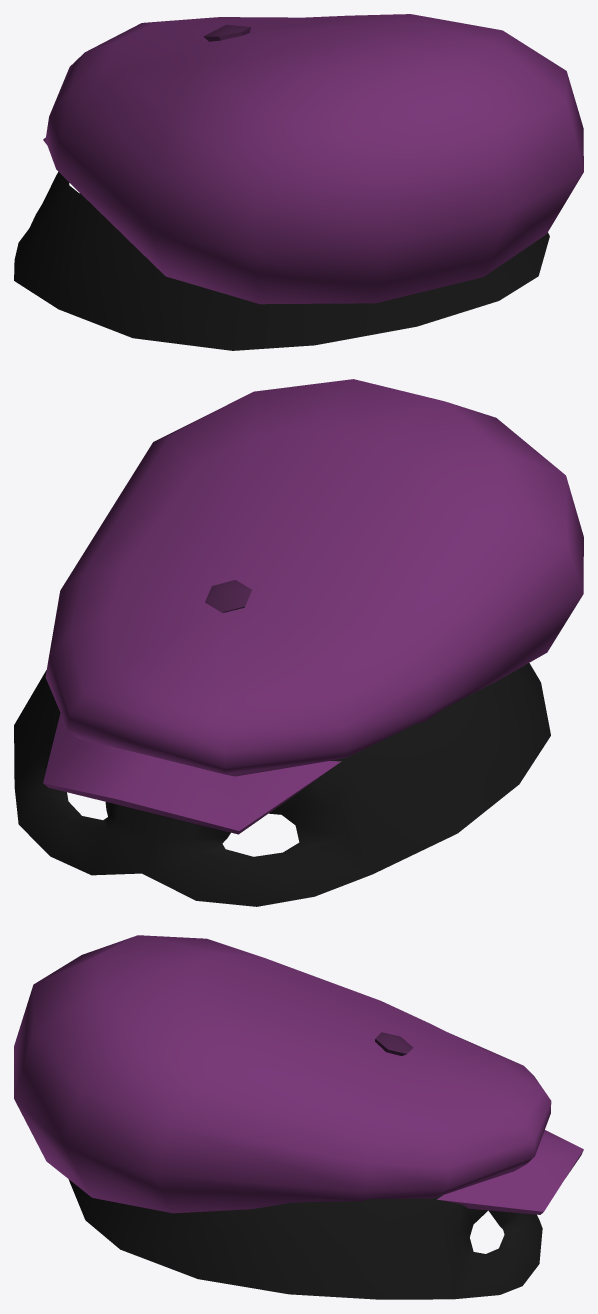
File: hat_badEgg2.glb
3 views of the same model, one above another, from view 1: azimuth 30°, elevation 25°; view 2: azimuth 150°, elevation 25°; view 3: azimuth 270°, elevation 25° (orthographic). The views are drawn at different scales.
Visible parts, largest first — view 1: hat_badEgg2; view 2: hat_badEgg2; view 3: hat_badEgg2.
Part boxes in pixels (x1=…): hat_badEgg2: x1=14, y1=14, x2=583, y2=350; hat_badEgg2: x1=14, y1=379, x2=583, y2=906; hat_badEgg2: x1=14, y1=935, x2=583, y2=1299.
Size of the model in its own units: 0.4356 by 0.279 by 0.5365.
